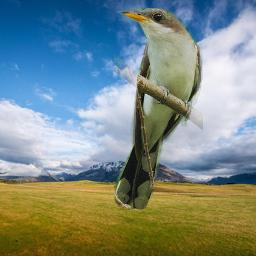Cuckoo: (114, 8, 203, 210)
